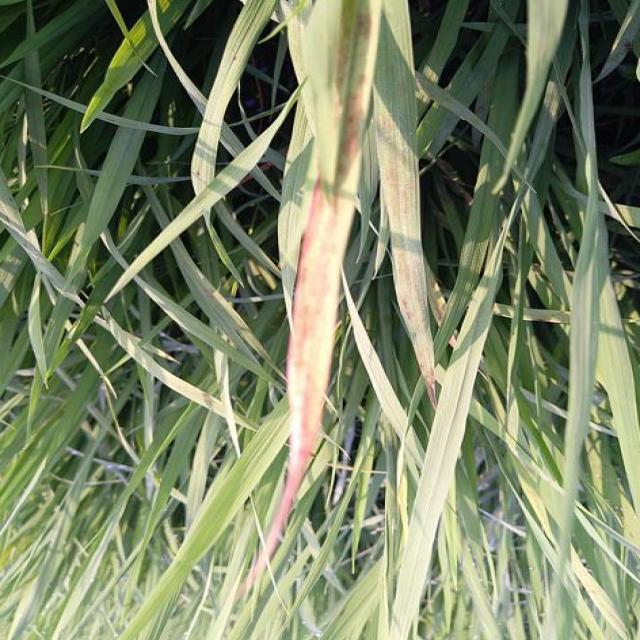Leaf Streak: (267, 0, 381, 554), (376, 102, 439, 395)
